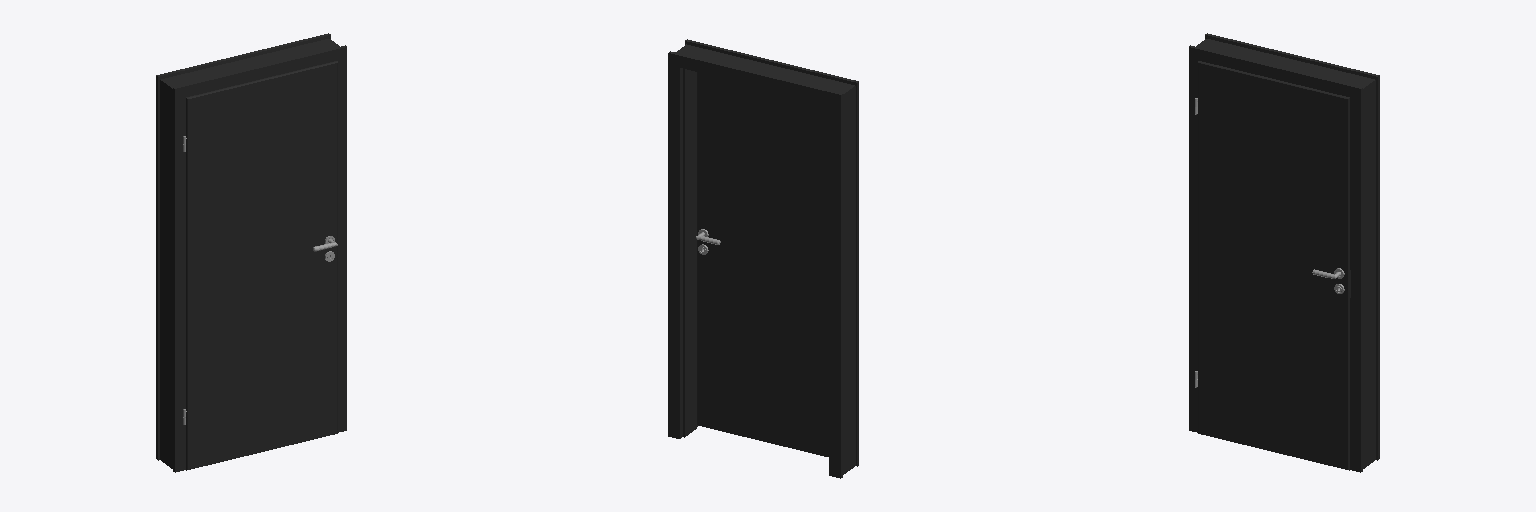
Rendered from Door.obj.
The picture shows the model from 3 angles: view 1: azimuth 30°, elevation 25°; view 2: azimuth 150°, elevation 25°; view 3: azimuth 330°, elevation 25°; orthographic projection.
Visible parts, largest first — view 1: Plane.001, Plane.002; view 2: Plane.001, Plane.002; view 3: Plane.001, Plane.002.
Part boxes in pixels (left/top/right/bottom): Plane.001: left=183, top=61, right=337, bottom=470; Plane.002: left=156, top=33, right=346, bottom=472; Plane.001: left=697, top=72, right=828, bottom=456; Plane.002: left=668, top=39, right=858, bottom=478; Plane.001: left=1195, top=61, right=1349, bottom=470; Plane.002: left=1189, top=33, right=1379, bottom=472.
Size of the model in its own units: 0.97 by 2.06 by 0.2606.